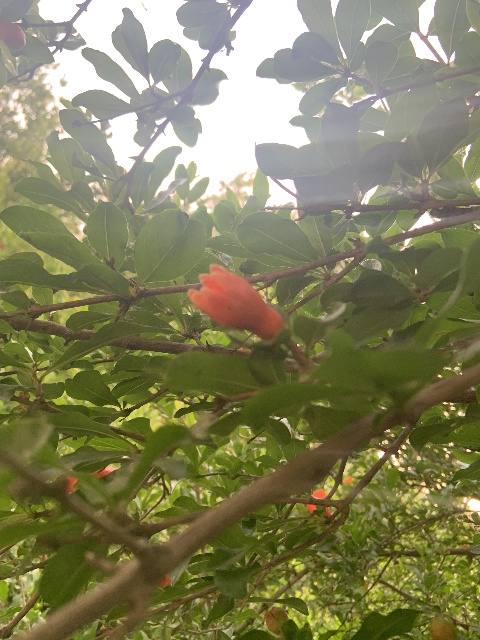flower: (187, 262, 284, 339)
